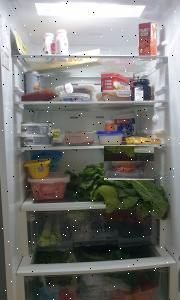Acelga: (72, 165, 168, 217)
Mantequilla: (101, 72, 133, 92)
Mermelada: (130, 79, 152, 101)
Queso: (104, 146, 154, 180), (22, 122, 52, 137), (24, 136, 53, 146)
Salsa de tomate: (138, 22, 157, 60)
